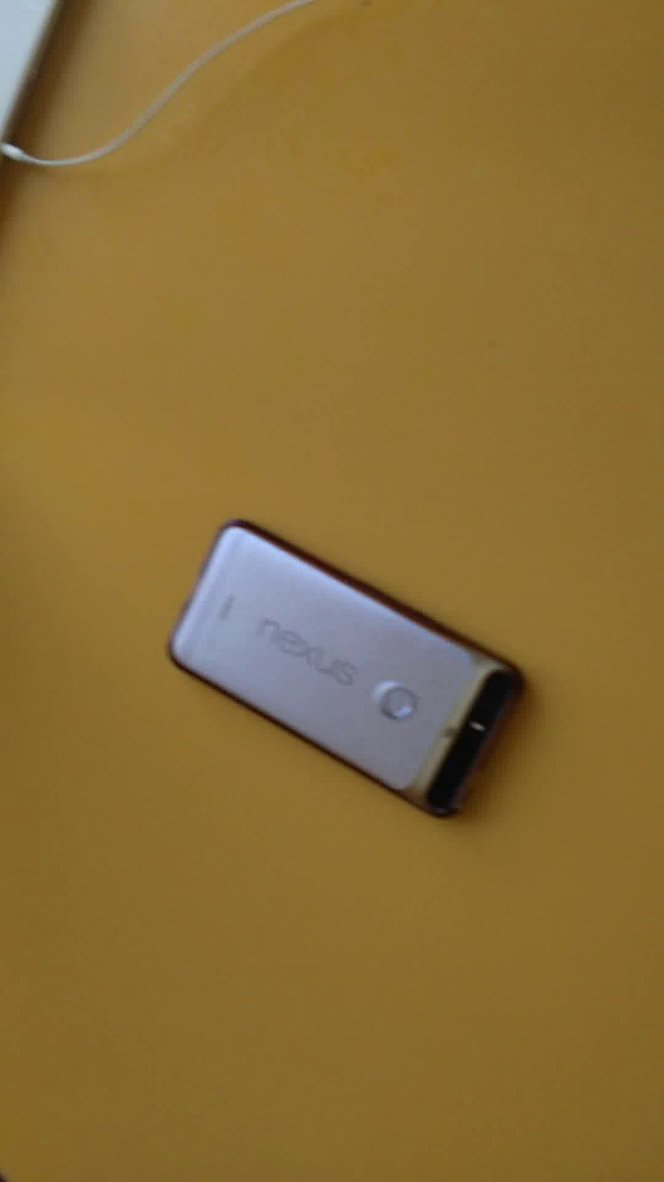phone: (154, 506, 557, 839)
